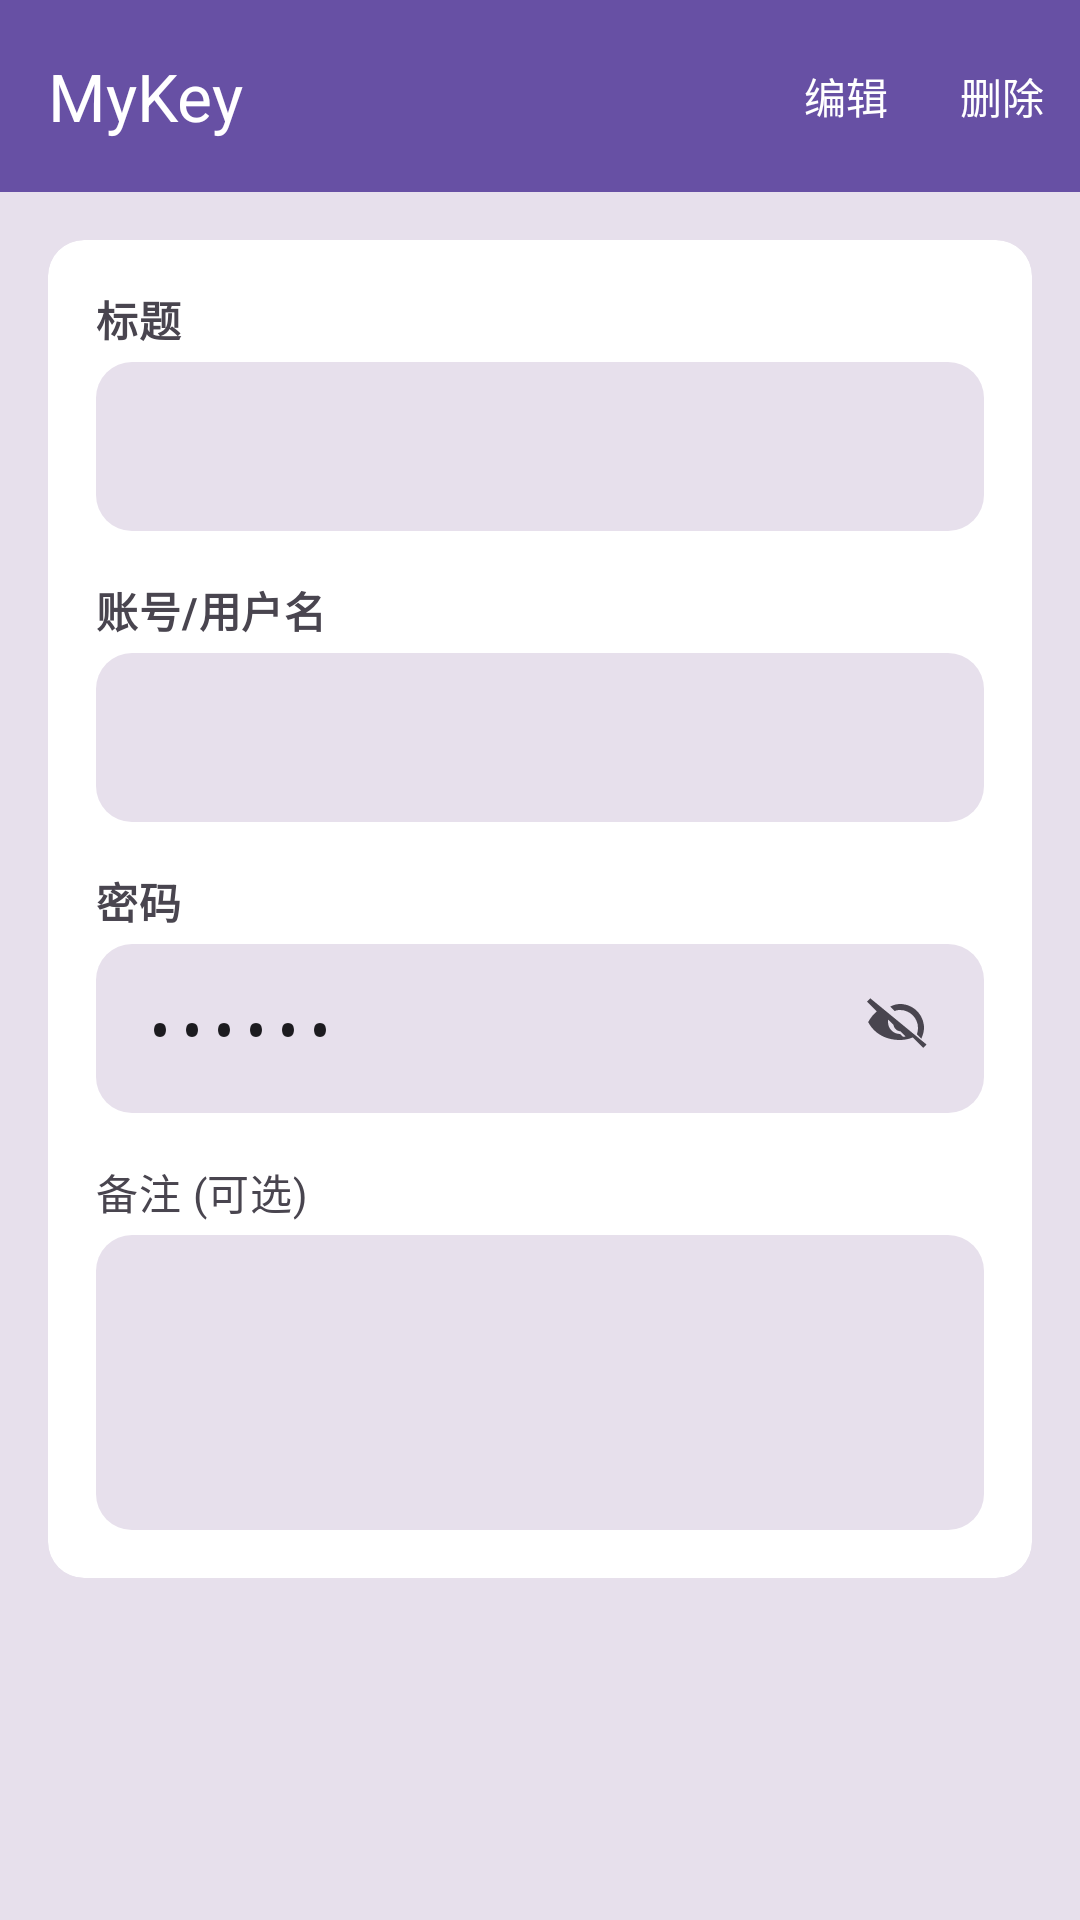

Point at icon controls on the screen. Image size 1080x1920, points as [x,y].
visibility off: [900,1028]
